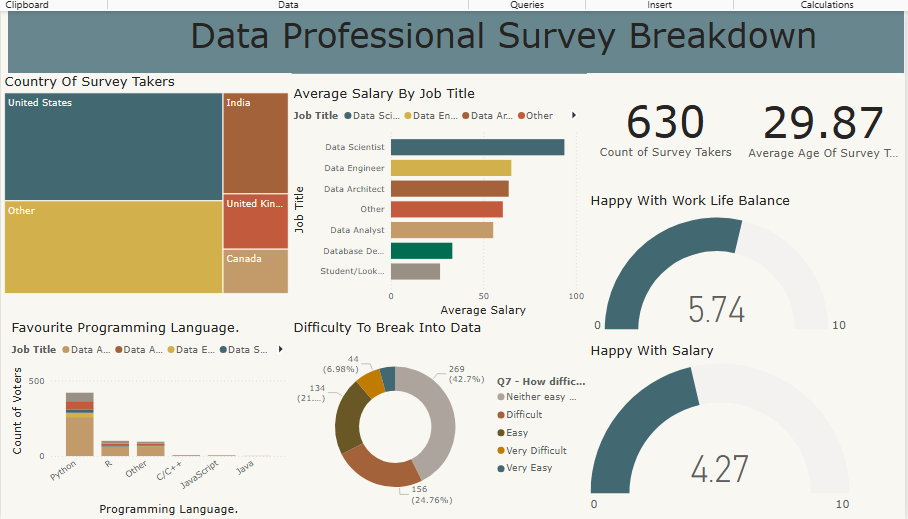

The page's visual inventory and layout, read from the dashboard file:
{"tool":"powerbi","page":{"name":"Page 1","canvas":[1280,720],"ordinal":0},"visuals":[{"type":"textbox","box":[10.1,0,1269.9,89],"z":0},{"type":"card","fields":{"Values":["CountNonNull(Data Professional Survey.Unique ID)"]},"box":[831.2,88.1,222.8,149.6],"z":1000},{"type":"card","fields":{"Values":["Avg(Data Professional Survey.Q10 - Current Age)"]},"box":[1052.3,88.1,227.7,151.3],"z":2000},{"type":"barChart","title":"Average Salary By Job Title","fields":{"Category":["Data Professional Survey.Q1 - Which Title Best Fits your Current Role?.1"],"Y":["Avg(Data Professional Survey.Average Salary)"],"Series":["Data Professional Survey.Q1 - Which Title Best Fits your Current Role?.1"]},"box":[408.9,104.7,422.2,332.5],"z":3000},{"type":"columnChart","title":"Favourite Programming Language.","fields":{"Category":["Data Professional Survey.Q5 - Favorite Programming Language.1"],"Y":["CountNonNull(Data Professional Survey.Unique ID)"],"Series":["Data Professional Survey.Q1 - Which Title Best Fits your Current Role?.1"]},"box":[10,437.2,399,282.6],"z":4000},{"type":"treemap","title":"Country Of Survey Takers","fields":{"Group":["Data Professional Survey.Q11 - Which Country do you live in?.1"],"Values":["CountNonNull(Data Professional Survey.Q11 - Which Country do you live in?.1)"]},"box":[0,88.1,412.3,317.5],"z":5000},{"type":"gauge","title":"Happy With Work Life Balance","fields":{"Y":["Avg(Data Professional Survey.Q6 - How Happy are you in your Current Position with the following? (Work/Life Balance))"],"MinValue":["Min(Data Professional Survey.Q6 - How Happy are you in your Current Position with the following? (Work/Life Balance))"],"MaxValue":["Max(Data Professional Survey.Q6 - How Happy are you in your Current Position with the following? (Work/Life Balance))1"]},"box":[831.2,256,377.4,212.8],"z":6000},{"type":"gauge","title":"Happy With Salary","fields":{"Y":["Avg(Data Professional Survey.Q6 - How Happy are you in your Current Position with the following? (Salary))"],"MinValue":["Min(Data Professional Survey.Q6 - How Happy are you in your Current Position with the following? (Salary))"],"MaxValue":["Max(Data Professional Survey.Q6 - How Happy are you in your Current Position with the following? (Salary))"]},"box":[831.2,468.8,377.4,251],"z":7000},{"type":"donutChart","title":"Difficulty To Break Into Data","fields":{"Category":["Data Professional Survey.Q7 - How difficult was it for you to break into Data?"],"Y":["CountNonNull(Data Professional Survey.Q7 - How difficult was it for you to break into Data?)"]},"box":[408.9,437.2,422.2,282.6],"z":8000}]}

Visuals, with their boxes in screenshot pixels (x1, y1, x2, y2):
textbox: bbox=[0, 7, 907, 72]
card - CountNonNull(Data Professional Survey.Unique ID): bbox=[593, 71, 755, 179]
card - Avg(Data Professional Survey.Q10 - Current Age): bbox=[754, 71, 907, 181]
"Average Salary By Job Title" barChart: bbox=[287, 83, 593, 324]
"Favourite Programming Language." columnChart: bbox=[0, 324, 287, 518]
"Country Of Survey Takers" treemap: bbox=[0, 71, 290, 301]
"Happy With Work Life Balance" gauge: bbox=[593, 193, 867, 347]
"Happy With Salary" gauge: bbox=[593, 347, 867, 518]
"Difficulty To Break Into Data" donutChart: bbox=[287, 324, 593, 518]
